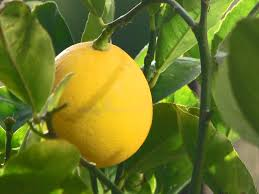lemon: (26, 30, 167, 173)
